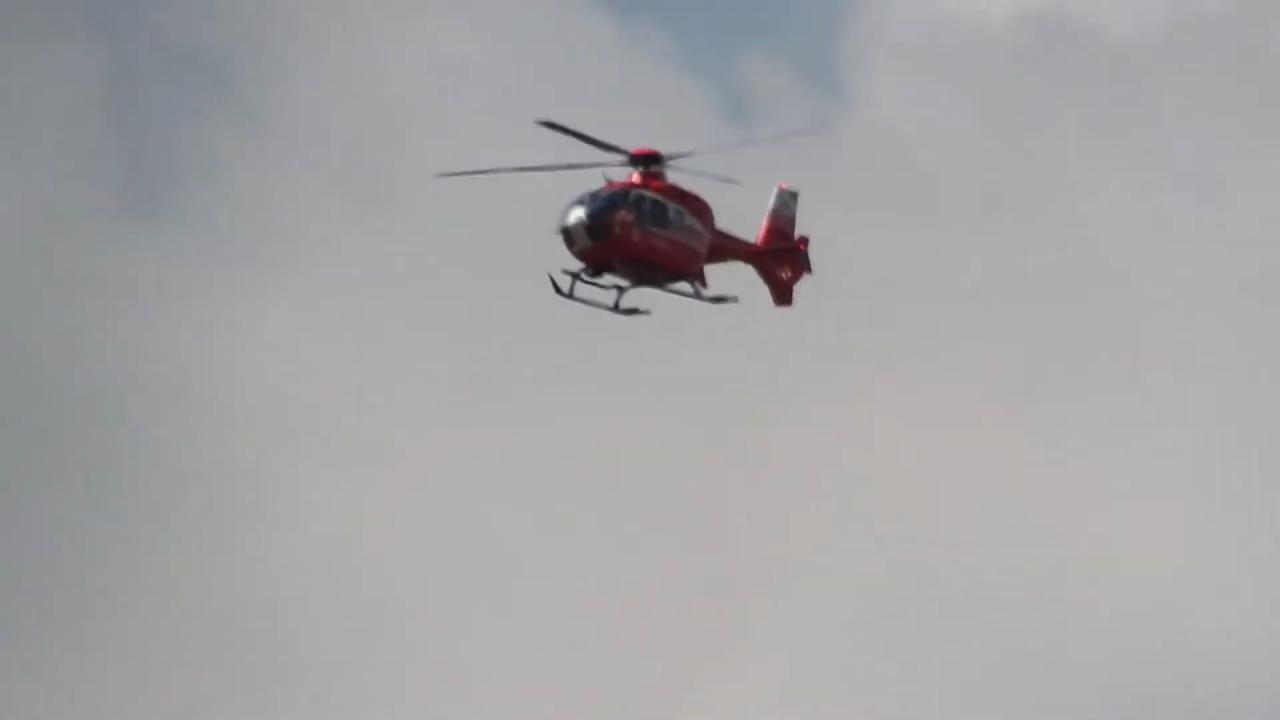Helicopter: (421, 103, 843, 334)
